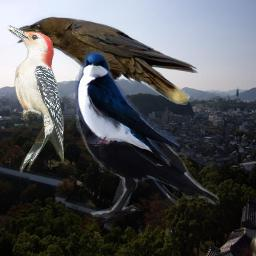Crow: (75, 73, 220, 217), (10, 12, 202, 105)
Swallow: (75, 51, 180, 166)
Woodpecker: (5, 25, 64, 173)
